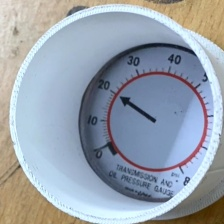gauge: (79, 42, 215, 202)
